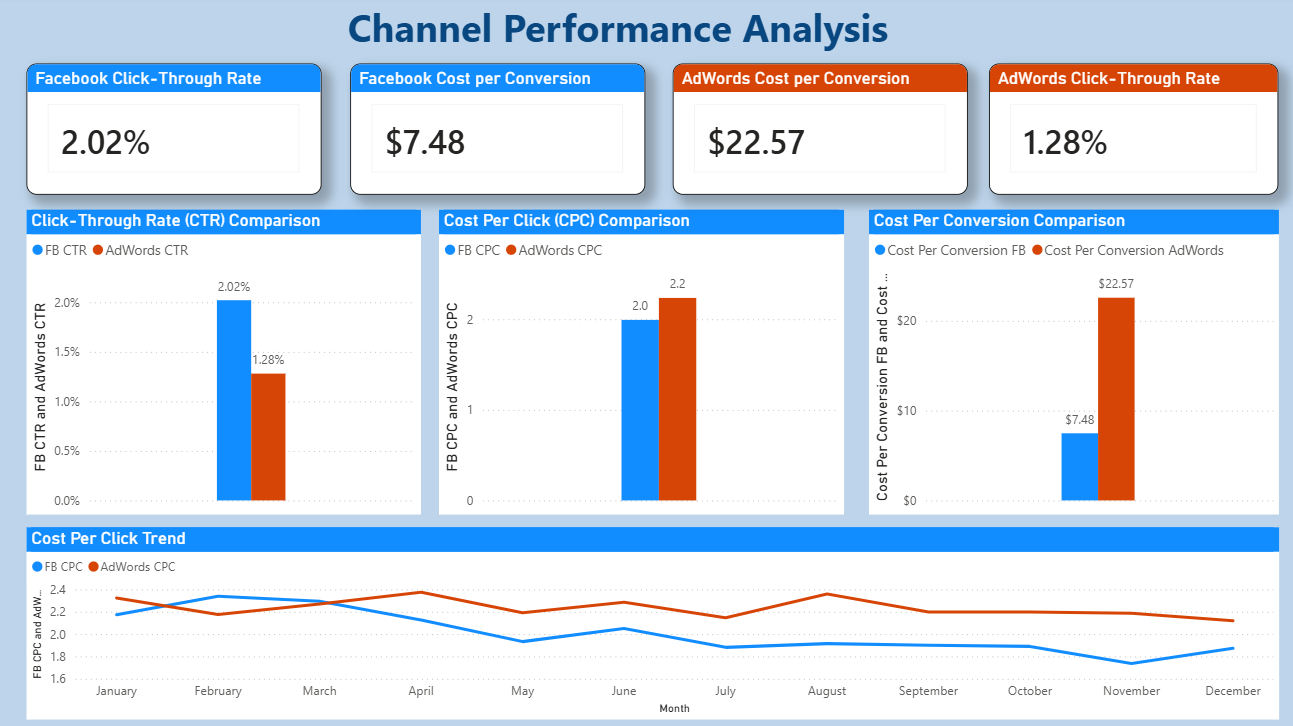

This screenshot's page, from the dashboard's own definition file:
{"tool":"powerbi","page":{"name":"Page 2","canvas":[1280,720],"ordinal":1},"visuals":[{"type":"textbox","box":[342.1,0,650.6,77.1],"z":0},{"type":"clusteredColumnChart","title":"Cost Per Click (CPC) Comparison","fields":{"Y":["Dataset.FB CPC","Dataset.AdWords CPC"]},"box":[437.1,209.9,397.4,299.3],"z":1000},{"type":"clusteredColumnChart","title":"Click-Through Rate (CTR) Comparison","fields":{"Y":["Dataset.FB CTR","Dataset.AdWords CTR"]},"box":[32.3,209.9,387.4,299.3],"z":2000},{"type":"clusteredColumnChart","title":"Cost Per Conversion Comparison","fields":{"Y":["Dataset.Cost Per Conversion FB","Dataset.Cost Per Conversion AdWords"]},"box":[859.3,209.9,402.3,299.3],"z":3000},{"type":"cardVisual","title":"Facebook Click-Through Rate","fields":{"Data":["Dataset.FB CTR"]},"box":[32.3,65.8,289.3,129.1],"z":4000},{"type":"cardVisual","title":"AdWords Click-Through Rate","fields":{"Data":["Dataset.AdWords CTR"]},"box":[977.3,65.8,284.4,129.1],"z":5000},{"type":"cardVisual","title":"Facebook Cost per Conversion","fields":{"Data":["Dataset.Cost Per Conversion FB"]},"box":[350.2,65.8,289.3,129.1],"z":6000},{"type":"cardVisual","title":"AdWords Cost per Conversion","fields":{"Data":["Dataset.Cost Per Conversion AdWords"]},"box":[666.8,65.8,289.3,129.1],"z":7000},{"type":"lineChart","title":"Cost Per Click Trend","fields":{"Category":["Dataset.Date.Variation.Date Hierarchy.Month"],"Y":["Dataset.FB CPC","Dataset.AdWords CPC"]},"box":[32.3,521.5,1229.3,188.7],"z":8000}]}

Visuals, with their boxes in screenshot pixels (x1, y1, x2, y2), scaled from the page's 1280x720 canvas onto the 1293x726 screenshot:
textbox: select_region(346, 0, 1003, 78)
"Cost Per Click (CPC) Comparison" clusteredColumnChart: select_region(442, 212, 843, 513)
"Click-Through Rate (CTR) Comparison" clusteredColumnChart: select_region(33, 212, 424, 513)
"Cost Per Conversion Comparison" clusteredColumnChart: select_region(868, 212, 1274, 513)
"Facebook Click-Through Rate" cardVisual: select_region(33, 66, 325, 197)
"AdWords Click-Through Rate" cardVisual: select_region(987, 66, 1275, 197)
"Facebook Cost per Conversion" cardVisual: select_region(354, 66, 646, 197)
"AdWords Cost per Conversion" cardVisual: select_region(674, 66, 966, 197)
"Cost Per Click Trend" lineChart: select_region(33, 526, 1274, 716)
